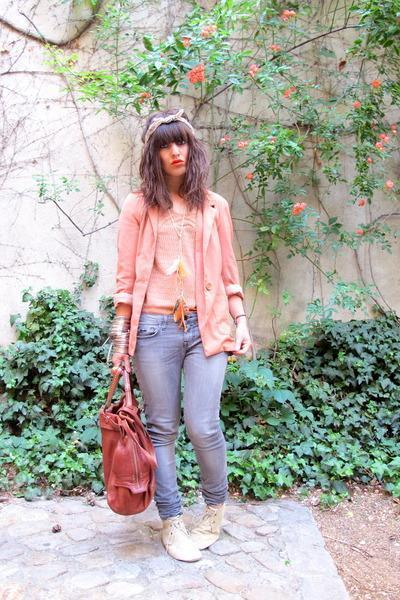bag: (94, 393, 165, 515)
jacket: (114, 190, 250, 356)
pants: (132, 300, 250, 524)
shirt: (151, 204, 203, 313)
shoe: (165, 499, 219, 557)
